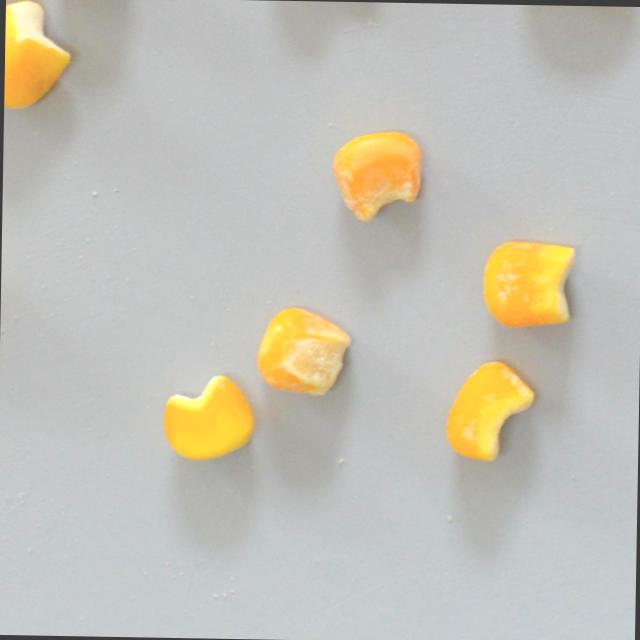no_canjicado: (161, 373, 255, 460)
pelicula: (445, 360, 536, 462), (253, 306, 352, 397), (329, 130, 423, 222), (481, 240, 577, 330), (4, 0, 72, 109)
